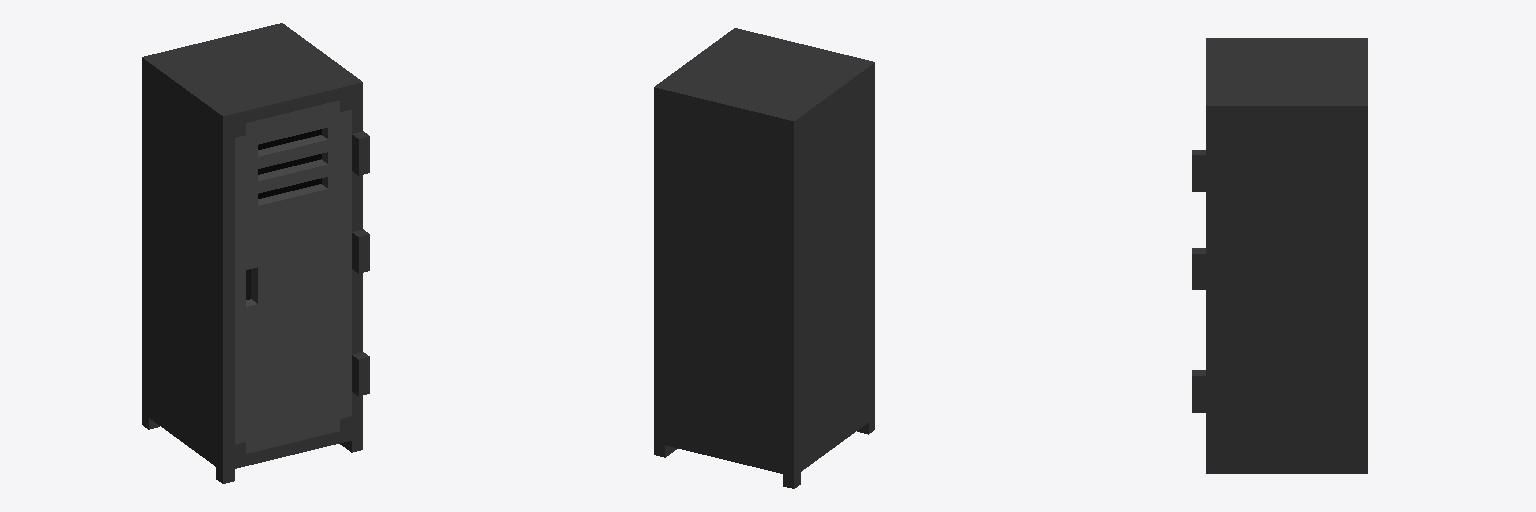
3 renders of one model, left to right at view 1: azimuth 30°, elevation 25°; view 2: azimuth 150°, elevation 25°; view 3: azimuth 270°, elevation 25°, orthographic.
Visible parts, largest first — view 1: locker_22; view 2: locker_22; view 3: locker_22.
Boxes of the visible parts, box(x1,y1,x2,y2) form: locker_22: box(142, 23, 369, 483); locker_22: box(654, 28, 874, 488); locker_22: box(1192, 38, 1367, 473).
Bounding box in the file's own units: 1.2 × 3 × 1.3.
Materials: 1 (1 with a texture image).